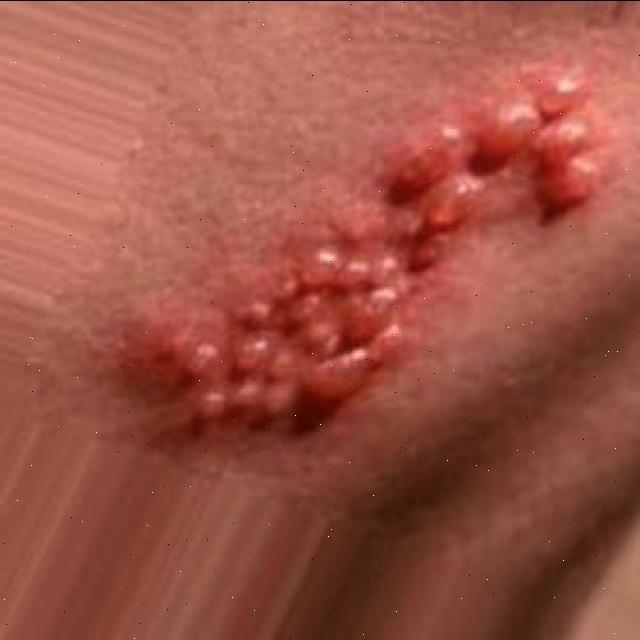Shingles: (174, 77, 602, 433)
